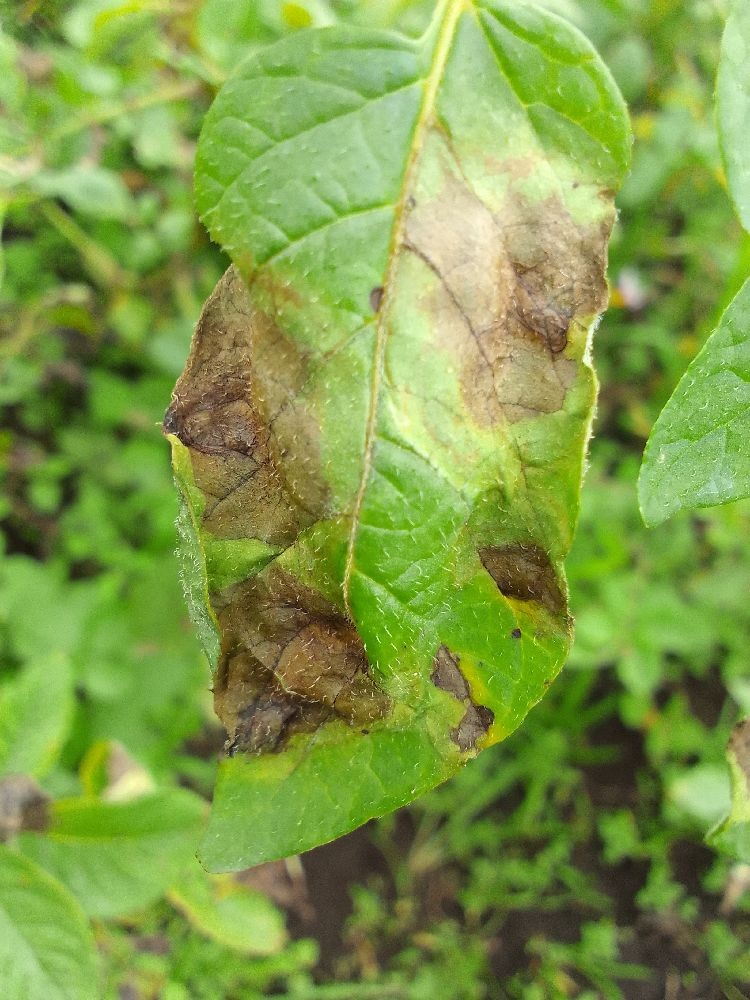late_blight: (170, 651, 750, 1000), (144, 253, 409, 774), (335, 154, 725, 466), (0, 382, 105, 584)
